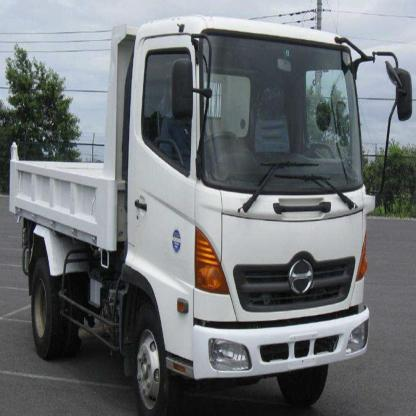dump_truck: (8, 7, 387, 413)
